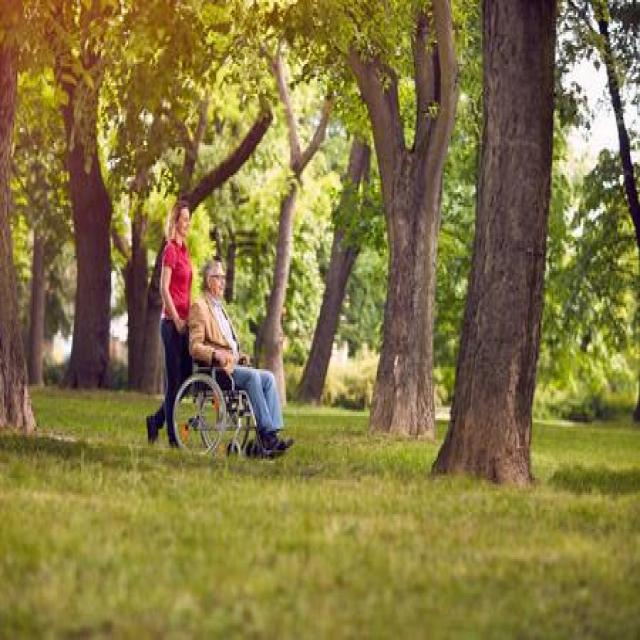wheelchairs: (169, 314, 290, 463)
